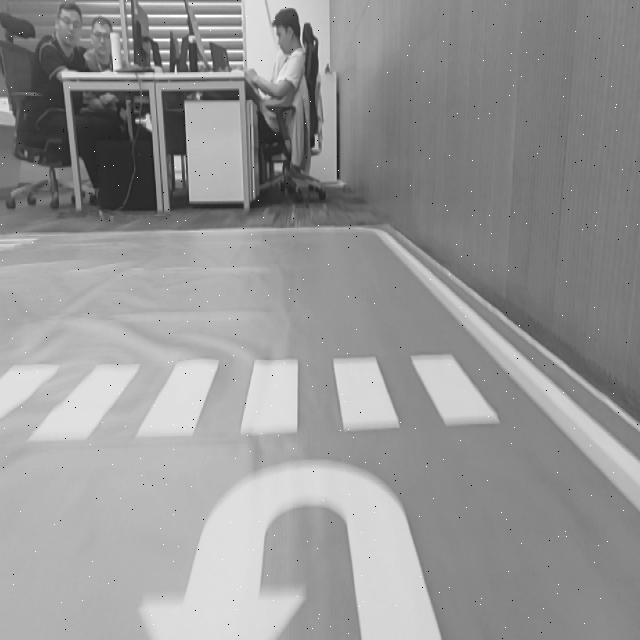right_lane: (379, 236, 640, 510)
